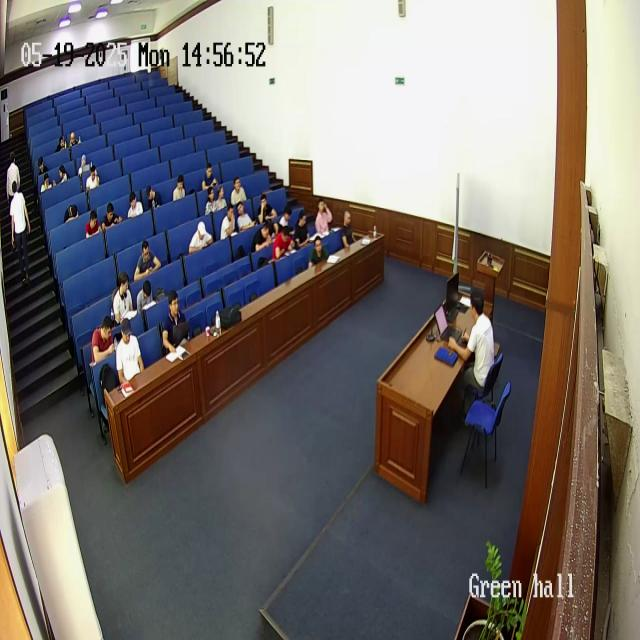person: (452, 287, 494, 401), (8, 182, 32, 283), (114, 319, 144, 389), (162, 290, 190, 353), (90, 313, 116, 363), (110, 273, 134, 325), (134, 238, 162, 281), (273, 220, 295, 258), (187, 220, 213, 252), (251, 216, 273, 253), (135, 280, 157, 315), (5, 155, 21, 201), (291, 211, 311, 247), (315, 199, 333, 237), (340, 210, 358, 247), (220, 204, 237, 239), (84, 207, 103, 238), (102, 203, 122, 232), (310, 234, 328, 266), (236, 201, 254, 232), (258, 194, 276, 225), (230, 175, 247, 207), (126, 191, 144, 219), (144, 182, 160, 212), (201, 163, 217, 191), (172, 173, 187, 201), (206, 184, 220, 213), (85, 164, 100, 191), (214, 184, 228, 212), (280, 199, 293, 229), (38, 171, 54, 194), (55, 162, 70, 185), (64, 203, 80, 223), (74, 154, 92, 170), (33, 153, 46, 173), (53, 134, 68, 151), (64, 128, 77, 146)
